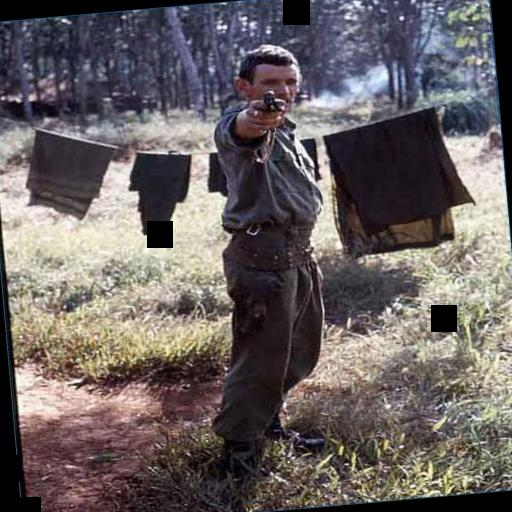Handgun: (252, 85, 286, 118)
